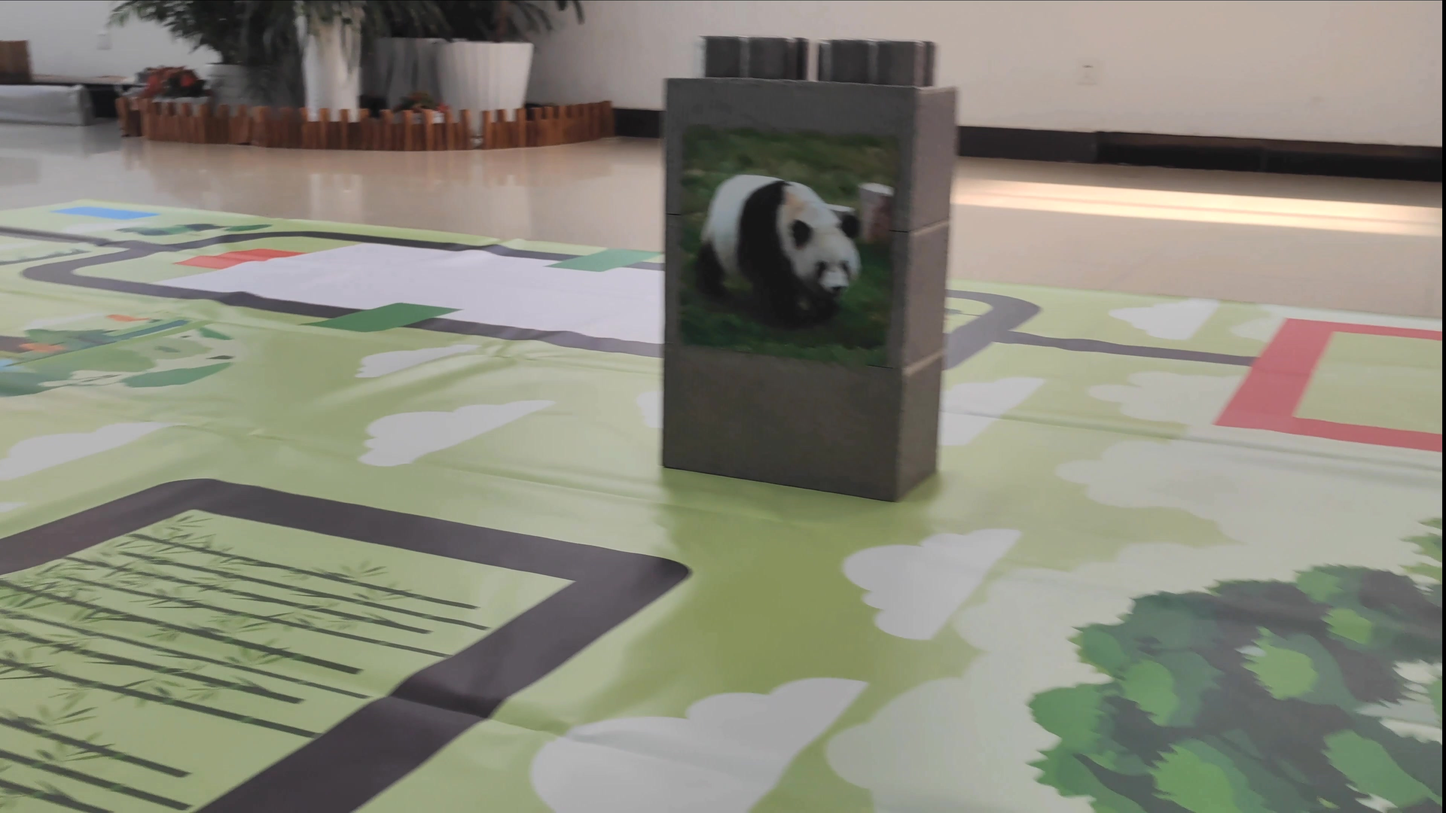panda: (685, 157, 887, 329)
